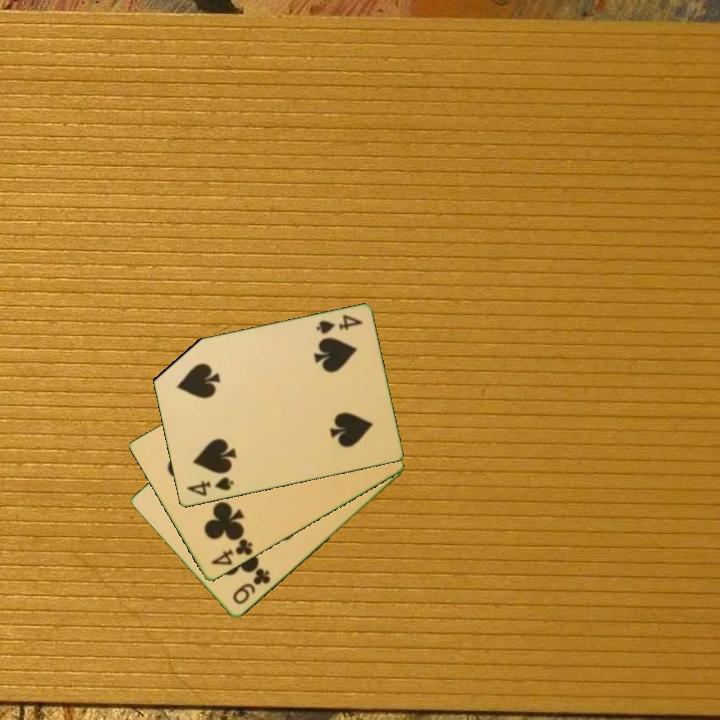4c: (207, 535, 256, 569)
4s: (182, 474, 236, 500), (312, 311, 365, 337)
9c: (229, 565, 274, 608)
